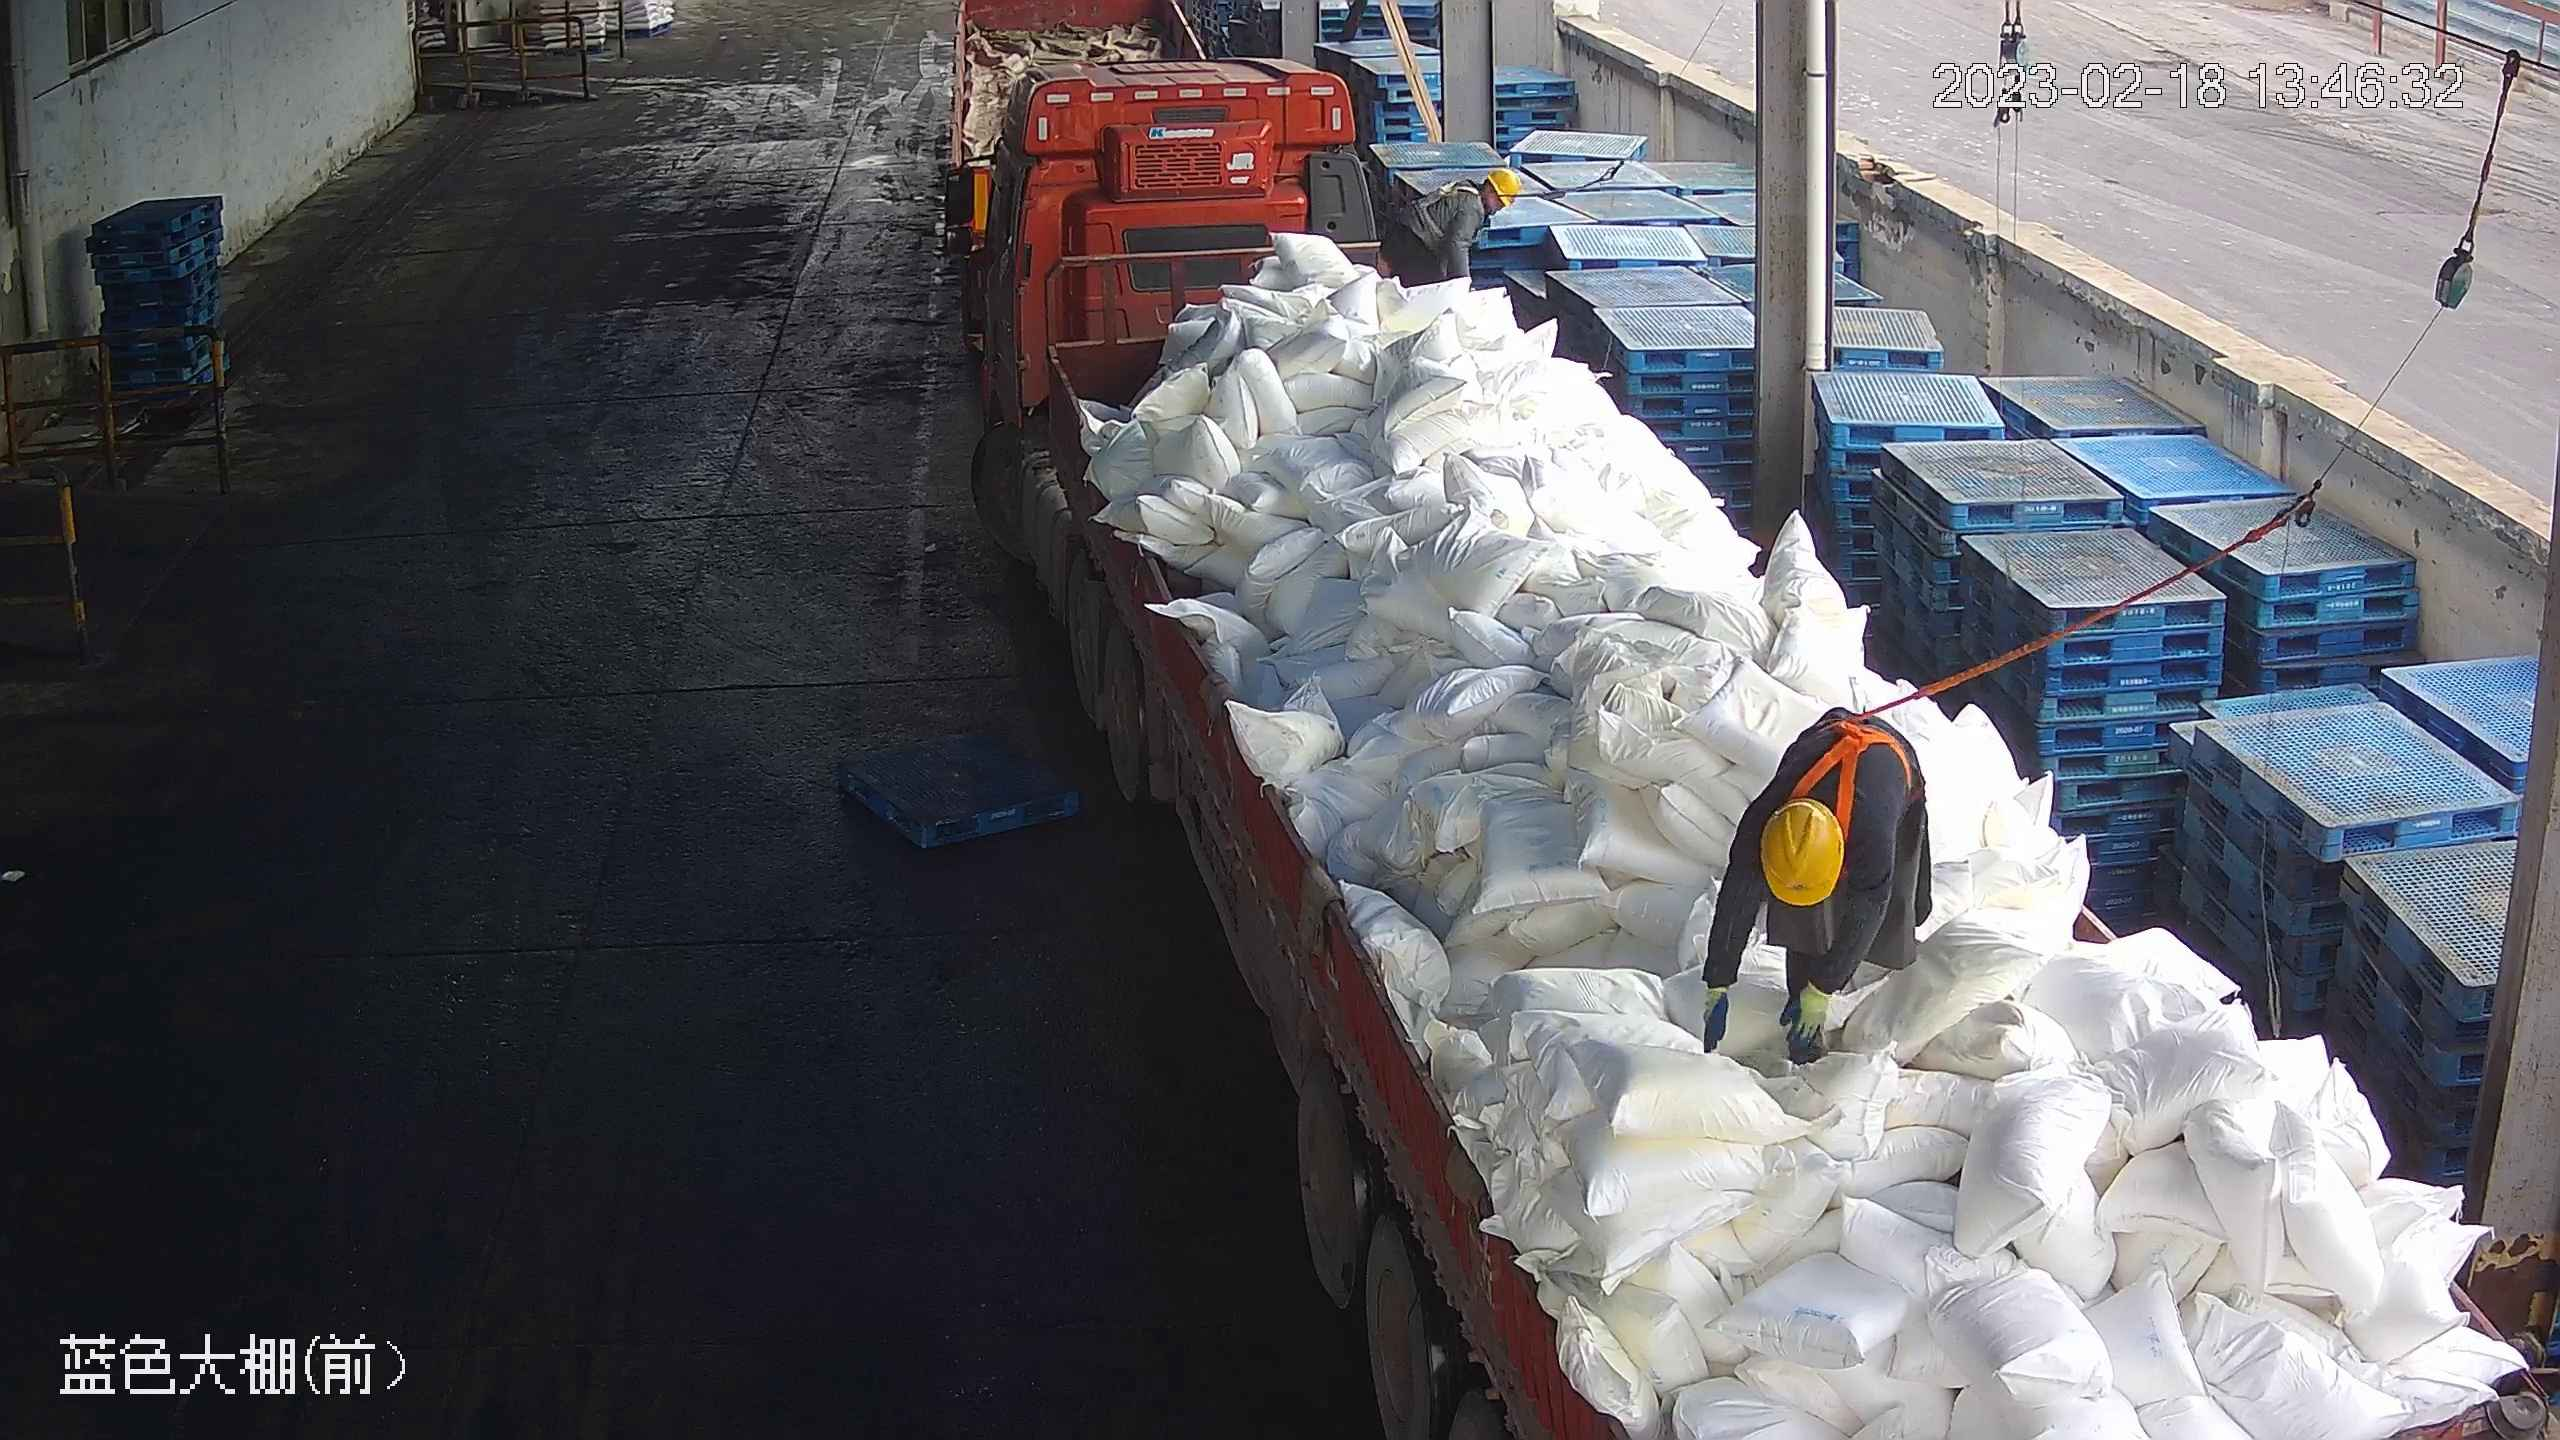belt: (1796, 687, 1923, 827), (1423, 179, 1473, 225)
head: (1439, 167, 1522, 228)
helmet: (1754, 796, 1847, 908), (1486, 166, 1523, 207)
people: (1694, 719, 1938, 1075), (1378, 163, 1524, 290)
truck: (951, 62, 2560, 1430)
